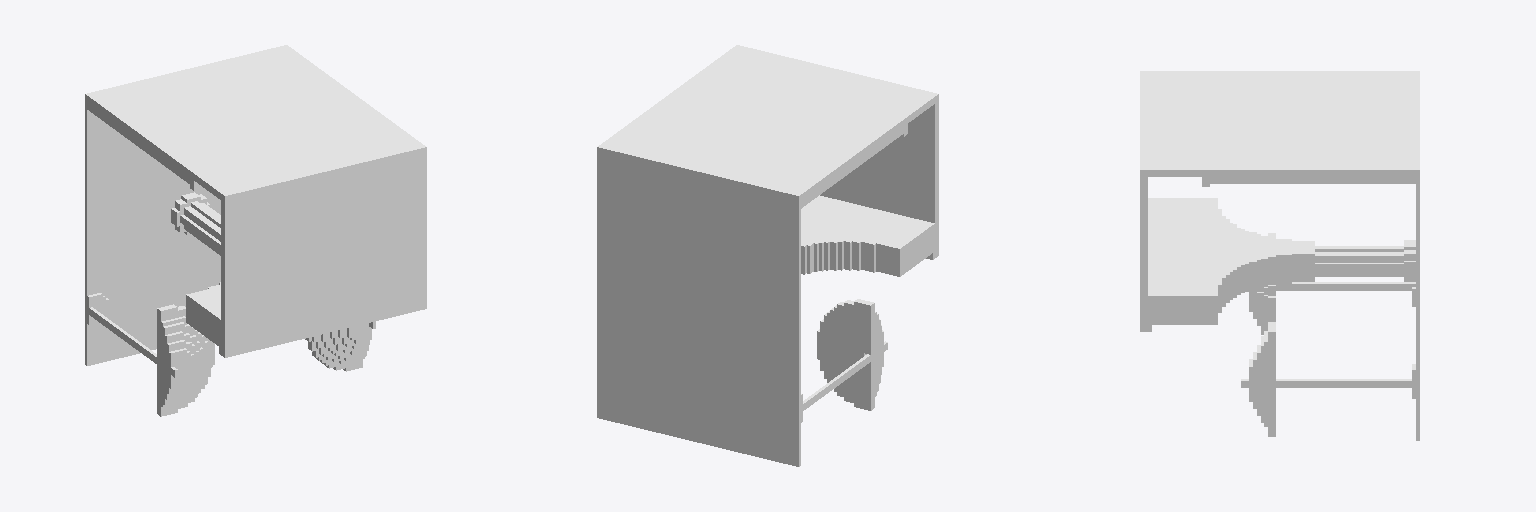
Rendered from portales_v01.obj.
3 views of the same model, side by side, from view 1: azimuth 30°, elevation 25°; view 2: azimuth 150°, elevation 25°; view 3: azimuth 270°, elevation 25° (orthographic).
Visible parts, largest first — view 1: object 1; view 2: object 1; view 3: object 1.
Boxes of the visible parts, box(x1,y1,x2,y2) form: object 1: box(85, 45, 426, 416); object 1: box(597, 45, 938, 466); object 1: box(1140, 71, 1419, 440).
Size of the model in its own units: 60 by 77 by 72.